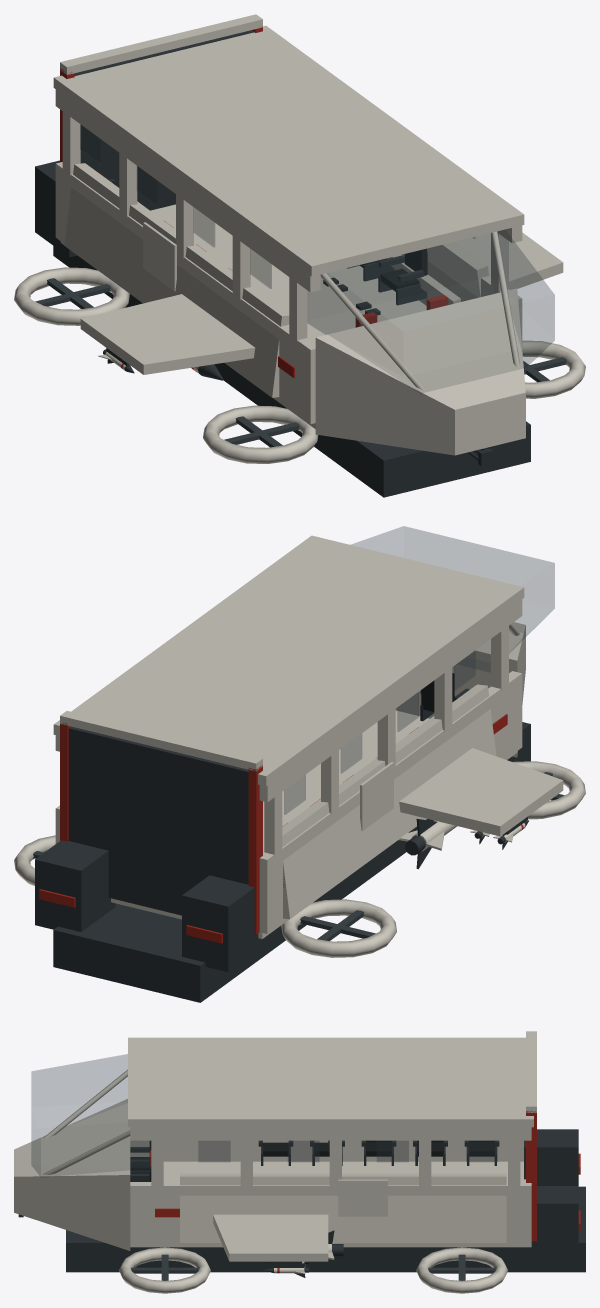
The picture shows the model from 3 angles, top to bottom: view 1: azimuth 30°, elevation 25°; view 2: azimuth 150°, elevation 25°; view 3: azimuth 270°, elevation 25°; orthographic projection. The views are drawn at different scales.
Parts seen in each view (by area): view 1: hover-transport-painted, transport-roof-painted, hover-transport-glazing, transport-ramp-painted, crew-seating-batch-painted, rotor-lift--1-2.9-fleet-machine, rotor-lift--1--3.1-fleet-machine; view 2: hover-transport-painted, transport-roof-painted, transport-ramp-painted, hover-transport-glazing, store-hover-large--1-painted, rotor-lift--1--3.1-fleet-machine, crew-seating-batch-painted; view 3: hover-transport-painted, transport-roof-painted, hover-transport-glazing, crew-seating-batch-painted, rotor-lift-1--3.1-fleet-machine, rotor-lift-1-2.9-fleet-machine, store-hover-large-1-painted.
Part boxes in pixels (box(x1,y1,x2,y2)): hover-transport-painted: box(14, 14, 585, 497); transport-roof-painted: box(53, 25, 524, 341); hover-transport-glazing: box(80, 124, 554, 394); transport-ramp-painted: box(74, 30, 253, 210); crew-seating-batch-painted: box(98, 172, 448, 327); rotor-lift--1-2.9-fleet-machine: box(224, 416, 299, 447); rotor-lift--1--3.1-fleet-machine: box(35, 278, 110, 308); hover-transport-painted: box(14, 622, 585, 1002); transport-roof-painted: box(53, 535, 524, 856); transport-ramp-painted: box(68, 726, 248, 915); hover-transport-glazing: box(284, 526, 554, 814); store-hover-large--1-painted: box(399, 819, 457, 869); rotor-lift--1--3.1-fleet-machine: box(300, 910, 375, 940); crew-seating-batch-painted: box(282, 673, 469, 826); hover-transport-painted: box(14, 1031, 585, 1293); transport-roof-painted: box(128, 1037, 533, 1187); hover-transport-glazing: box(31, 1054, 497, 1177); crew-seating-batch-painted: box(130, 1140, 499, 1181); rotor-lift-1--3.1-fleet-machine: box(428, 1254, 495, 1280); rotor-lift-1-2.9-fleet-machine: box(131, 1254, 198, 1280); store-hover-large-1-painted: box(315, 1230, 343, 1269).
Bounding box in the file's own units: 42.11 × 21.33 × 63.16.
